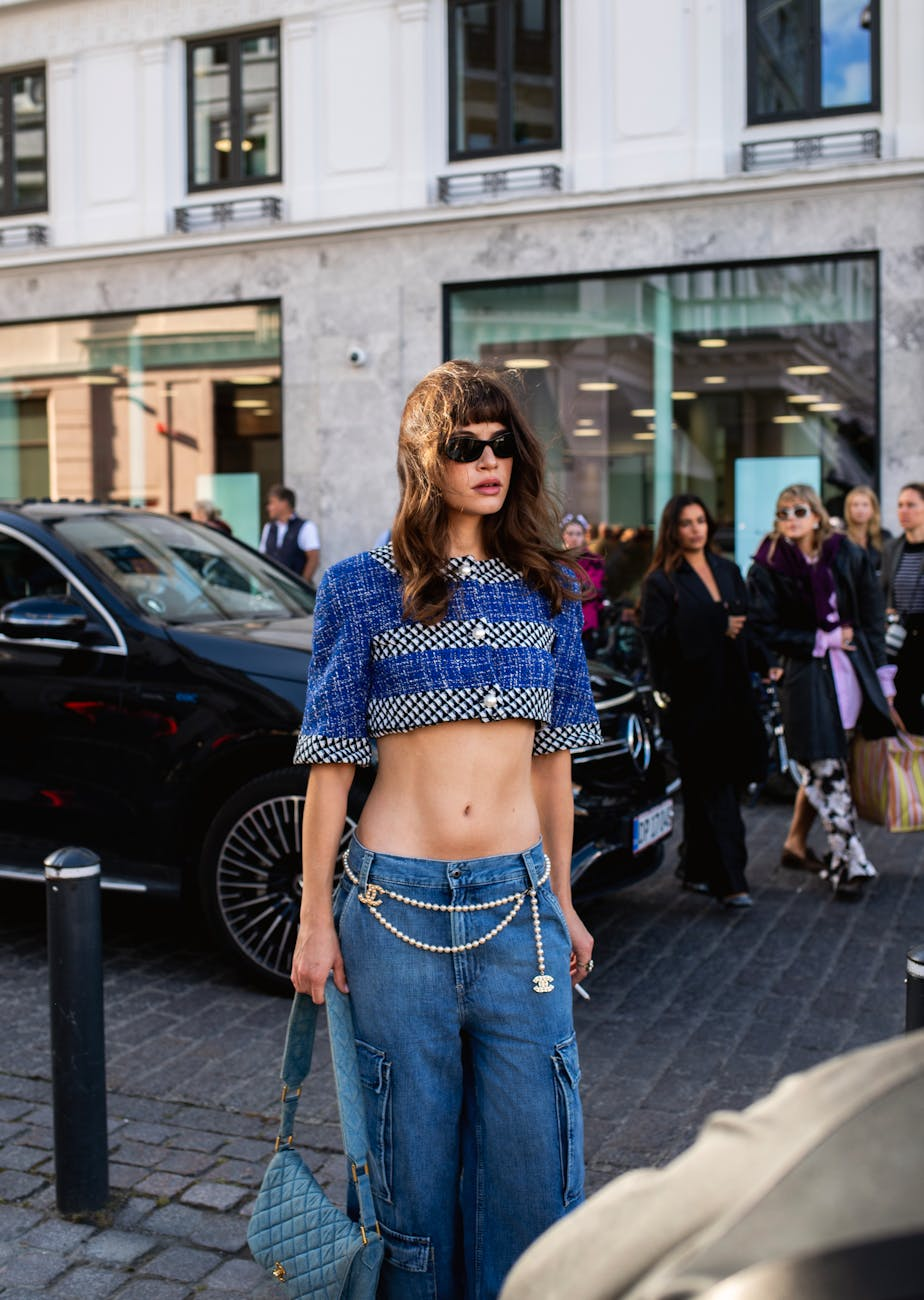crop_top: (282, 541, 625, 748)
